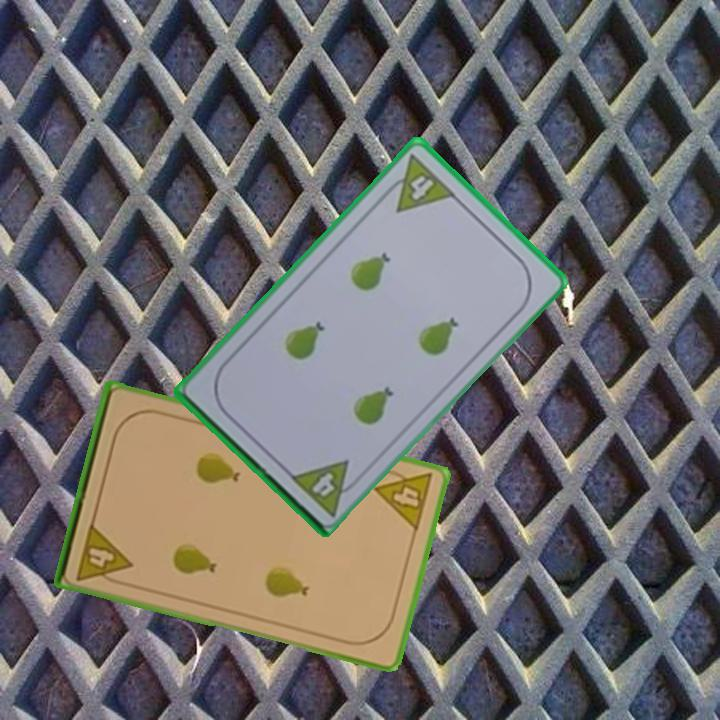4p: (377, 150, 458, 215), (285, 456, 365, 518), (371, 463, 436, 534), (72, 519, 135, 589)
